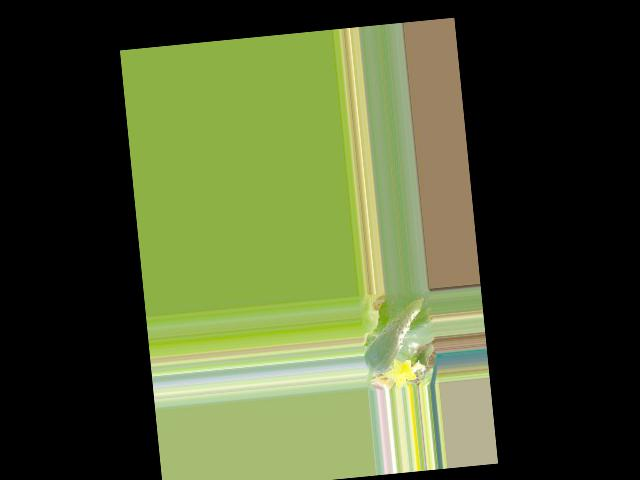cucumber: (358, 297, 430, 375)
